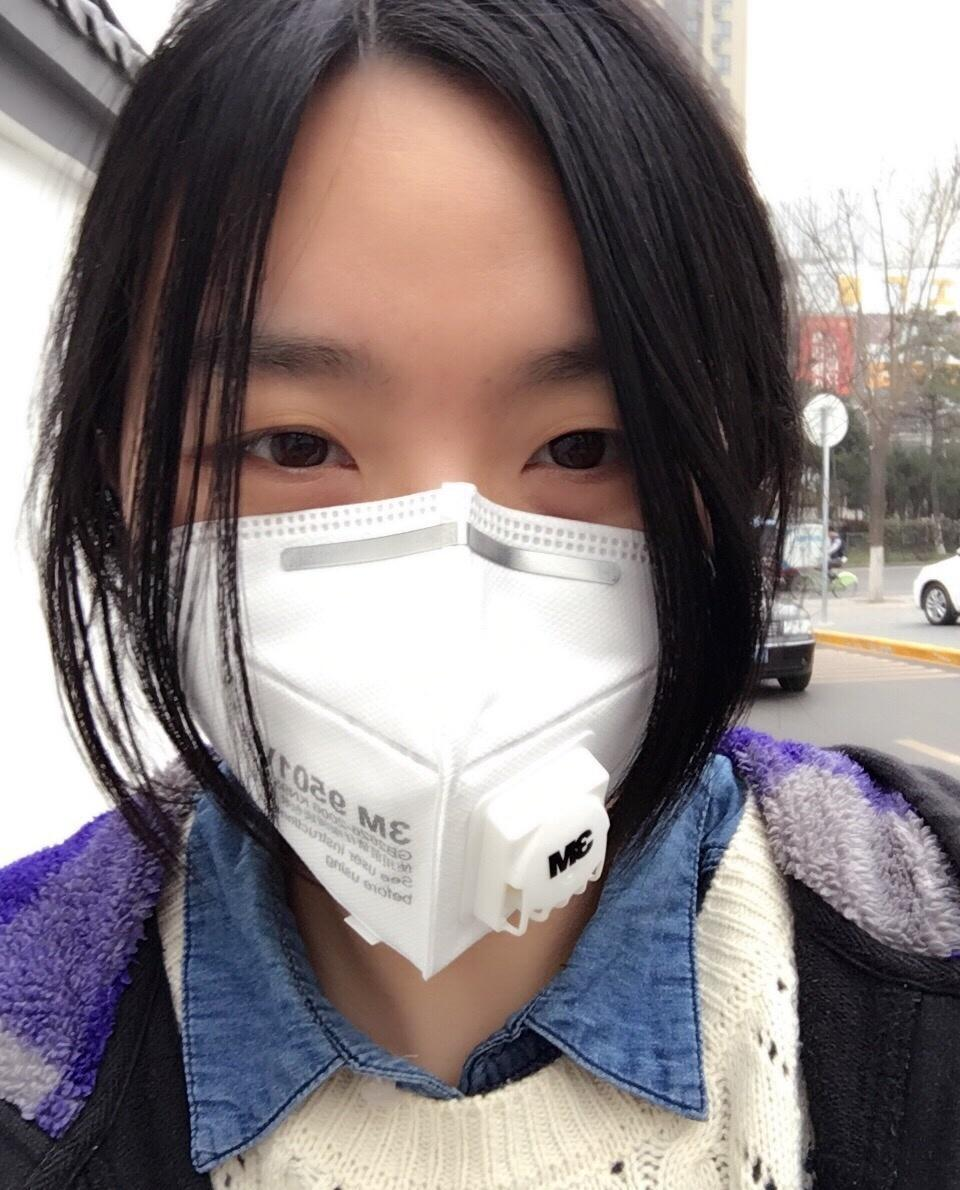OK: (113, 301, 769, 957)
